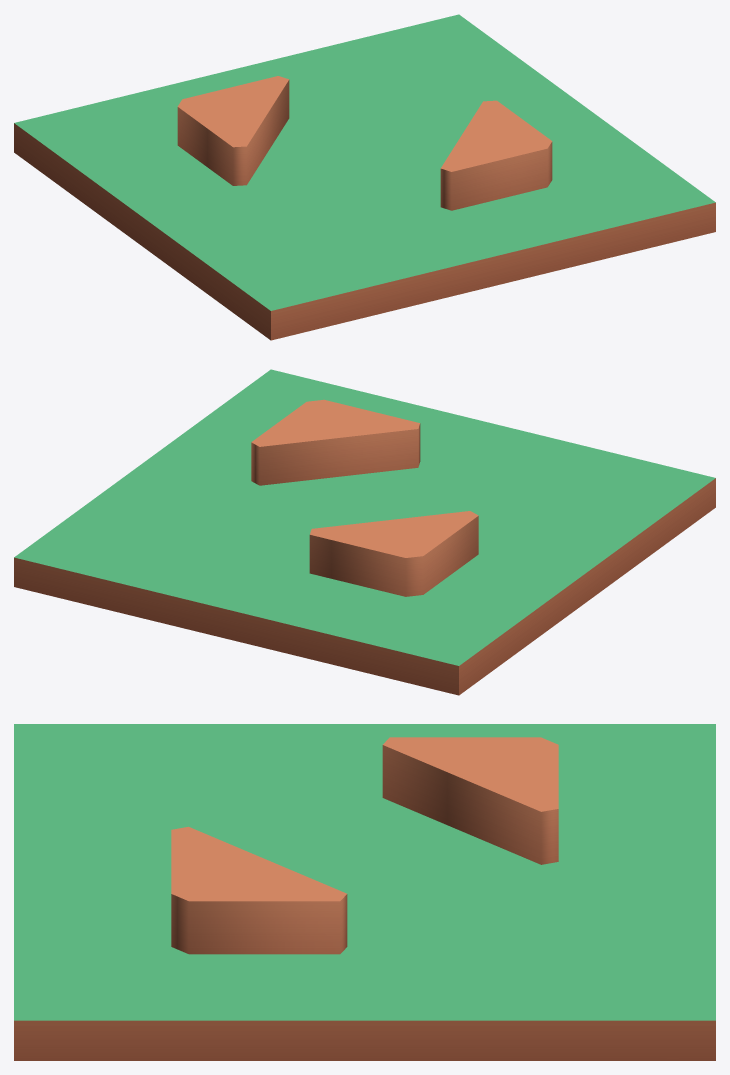
Rendered from cc0-obstacle-triangle-lod0.glb.
The picture shows the model from 3 angles, top to bottom: view 1: azimuth 30°, elevation 25°; view 2: azimuth 150°, elevation 25°; view 3: azimuth 270°, elevation 25°; orthographic projection. The views are drawn at different scales.
Parts seen in each view (by area): view 1: part_0; view 2: part_0; view 3: part_0.
Boxes of the visible parts, box(x1,y1,x2,y2) form: part_0: box(14, 14, 715, 340); part_0: box(14, 369, 715, 695); part_0: box(14, 724, 715, 1060).
Bounding box in the file's own units: 0.9999 × 0.1467 × 0.9999.
1 material, 1 textured.
